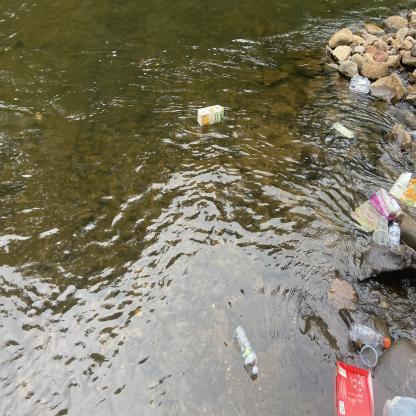trash: (330, 358, 377, 416), (346, 187, 396, 238), (230, 323, 263, 381), (344, 318, 394, 353), (386, 167, 416, 215), (327, 119, 358, 156), (380, 386, 415, 416), (196, 99, 228, 130), (360, 342, 390, 370), (383, 192, 406, 223), (347, 73, 373, 100), (372, 212, 390, 248), (386, 219, 402, 253)
